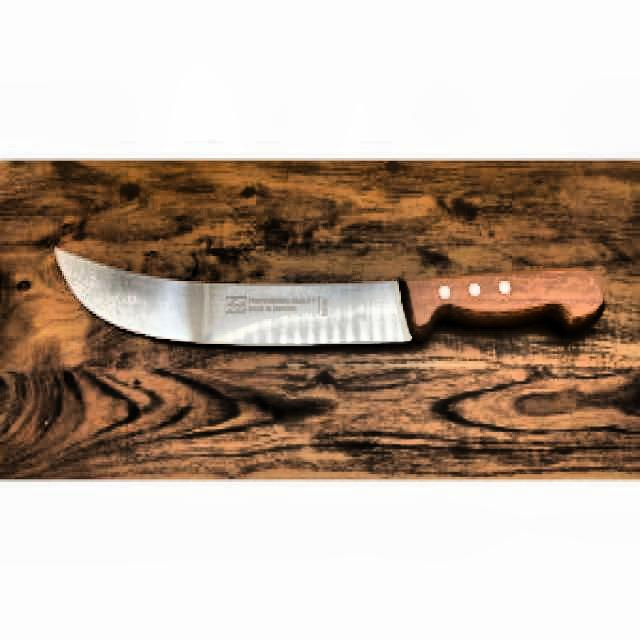knife: (53, 241, 609, 354)
